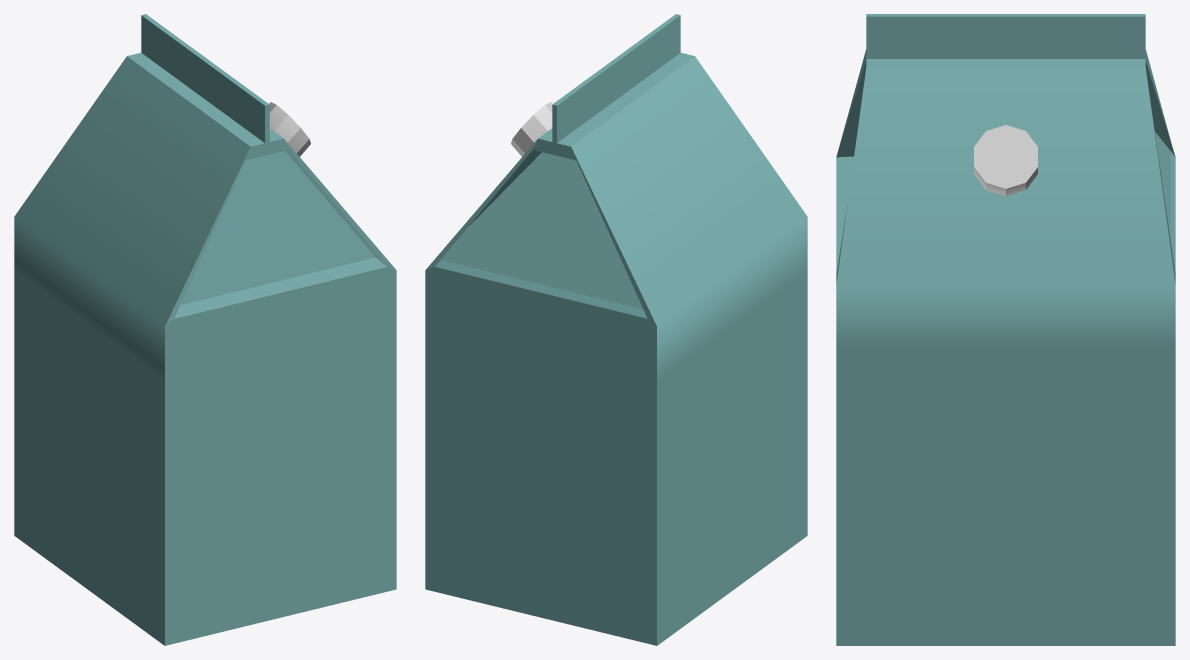
File: Milk.fbx
3 renders of one model, left to right at view 1: azimuth 30°, elevation 25°; view 2: azimuth 150°, elevation 25°; view 3: azimuth 270°, elevation 25°, orthographic. The views are drawn at different scales.
Visible parts, largest first — view 1: Milk1, Cap; view 2: Milk1, Cap; view 3: Milk1, Cap.
Boxes of the visible parts, <box> form: Milk1: <box>14,14,396,645</box>; Cap: <box>269,102,310,156</box>; Milk1: <box>425,14,807,645</box>; Cap: <box>511,102,552,156</box>; Milk1: <box>836,14,1175,645</box>; Cap: <box>974,125,1037,196</box>.
Size of the model in its own units: 0.1386 by 0.2873 by 0.1558.
